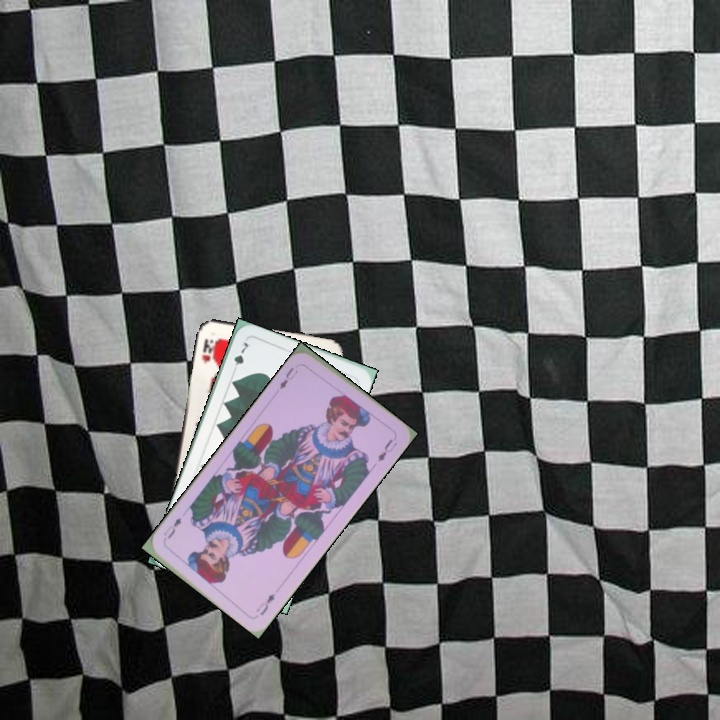EU: (275, 363, 301, 392), (252, 589, 278, 618)
G7: (229, 338, 251, 376)
HK: (198, 334, 218, 366)
